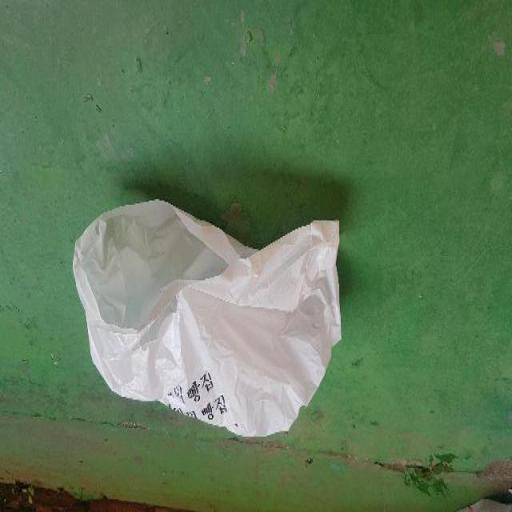plastic-bag: (66, 192, 341, 440)
